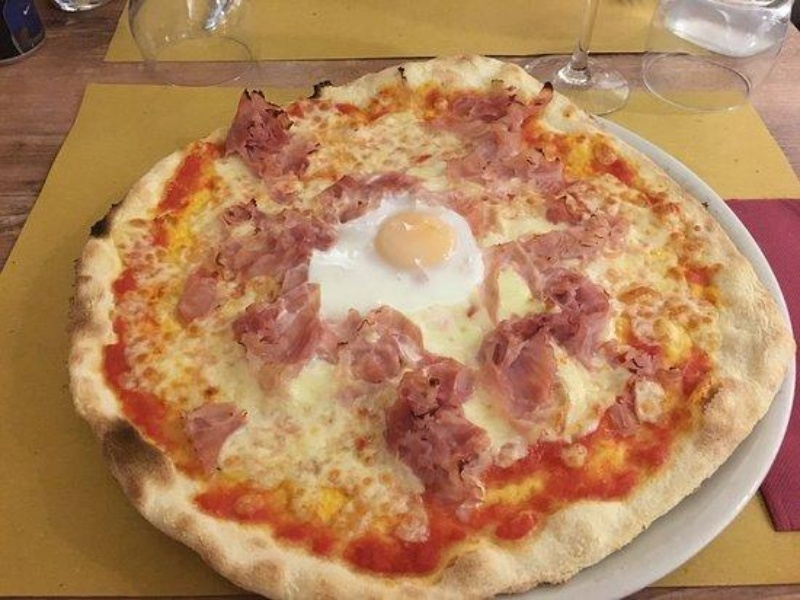oeuf: (357, 193, 486, 328)
